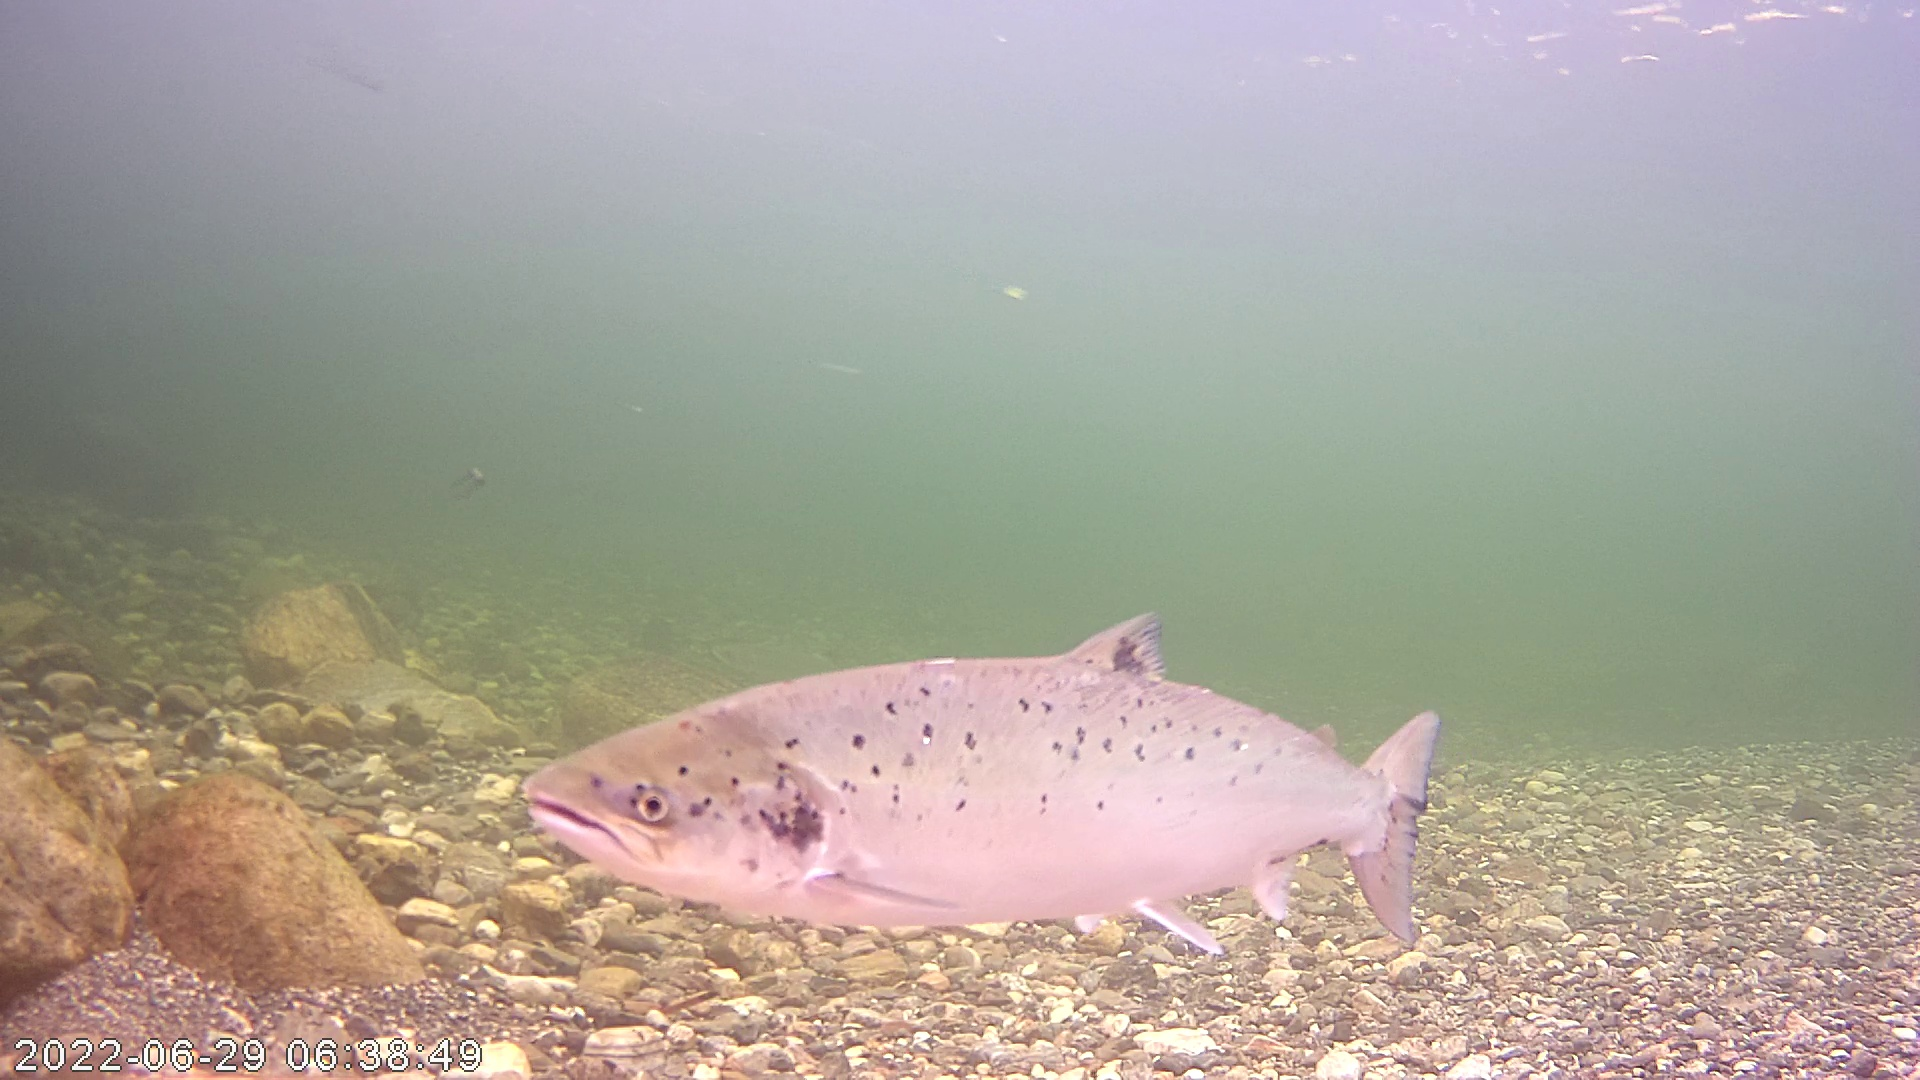salmon: (534, 527, 1449, 953)
